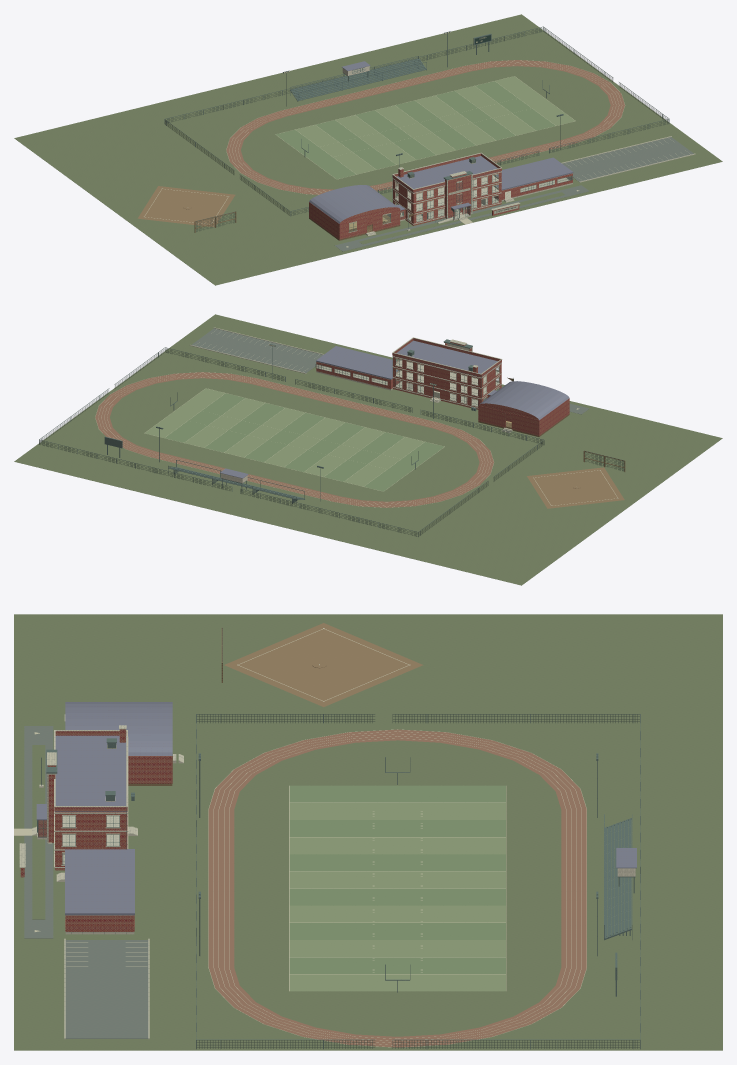
Rendered from lincoln-high-school-2000.glb.
3 views of the same model, one above another, from view 1: azimuth 30°, elevation 25°; view 2: azimuth 150°, elevation 25°; view 3: azimuth 270°, elevation 25° (orthographic). The views are drawn at different scales.
Parts seen in each view (by area): view 1: lot__ground_grass, football_field__ground_sport, school_1925__wall_brick, baseball_diamond__ground_sport, student_parking__ground_sport, field_fence__glass_windows, steel_bleachers__detail_metal, gymnasium__roof_membrane, school_1925__wall_stone, gymnasium__wall_brick, lot__ground_sport, school_1925__roof_membrane (+4 smaller); view 2: lot__ground_grass, football_field__ground_sport, field_fence__glass_windows, school_1925__wall_brick, baseball_diamond__ground_sport, student_parking__ground_sport, gymnasium__roof_membrane, school_1925__wall_stone, gymnasium__wall_brick, school_1925__roof_membrane, modern_wing__roof_membrane, field_fence__detail_metal (+3 smaller); view 3: lot__ground_grass, football_field__ground_sport, baseball_diamond__ground_sport, student_parking__ground_sport, school_1925__roof_membrane, field_fence__glass_windows, modern_wing__roof_membrane, gymnasium__roof_membrane, lot__ground_sport, school_1925__wall_brick, steel_bleachers__detail_metal, school_1925__wall_stone (+3 smaller).
Part boxes in pixels (x1,y1,x2,y2): lot__ground_grass: (14, 14, 722, 285); football_field__ground_sport: (226, 60, 625, 194); school_1925__wall_brick: (392, 153, 501, 225); baseball_diamond__ground_sport: (137, 186, 235, 227); student_parking__ground_sport: (562, 137, 693, 181); field_fence__glass_windows: (164, 27, 668, 215); steel_bleachers__detail_metal: (290, 56, 426, 101); gymnasium__roof_membrane: (309, 185, 398, 223); school_1925__wall_stone: (392, 152, 501, 224); gymnasium__wall_brick: (309, 202, 400, 239); lot__ground_sport: (334, 185, 589, 251); school_1925__roof_membrane: (393, 156, 501, 192); lot__ground_grass: (14, 314, 722, 585); football_field__ground_sport: (95, 372, 493, 507); field_fence__glass_windows: (39, 348, 544, 536); school_1925__wall_brick: (392, 338, 501, 409); baseball_diamond__ground_sport: (527, 467, 624, 508); student_parking__ground_sport: (192, 328, 322, 372); gymnasium__roof_membrane: (480, 381, 569, 420); school_1925__wall_stone: (392, 337, 502, 408); gymnasium__wall_brick: (478, 398, 569, 435); school_1925__roof_membrane: (393, 340, 501, 377); modern_wing__roof_membrane: (316, 346, 398, 379); field_fence__detail_metal: (39, 347, 544, 536); lot__ground_grass: (14, 614, 722, 1050); football_field__ground_sport: (208, 729, 586, 1047); baseball_diamond__ground_sport: (224, 623, 422, 706); student_parking__ground_sport: (65, 940, 148, 1038); school_1925__roof_membrane: (54, 735, 127, 811); field_fence__glass_windows: (196, 714, 639, 1048); modern_wing__roof_membrane: (65, 849, 134, 915); gymnasium__roof_membrane: (65, 702, 172, 755); lot__ground_sport: (14, 726, 53, 938); school_1925__wall_brick: (47, 729, 127, 870); steel_bleachers__detail_metal: (604, 814, 635, 940); school_1925__wall_stone: (47, 725, 137, 867).
Size of what is drawn, in the model's own units: 233 by 18.39 by 160.
Materials: 12 (12 with a texture image).
